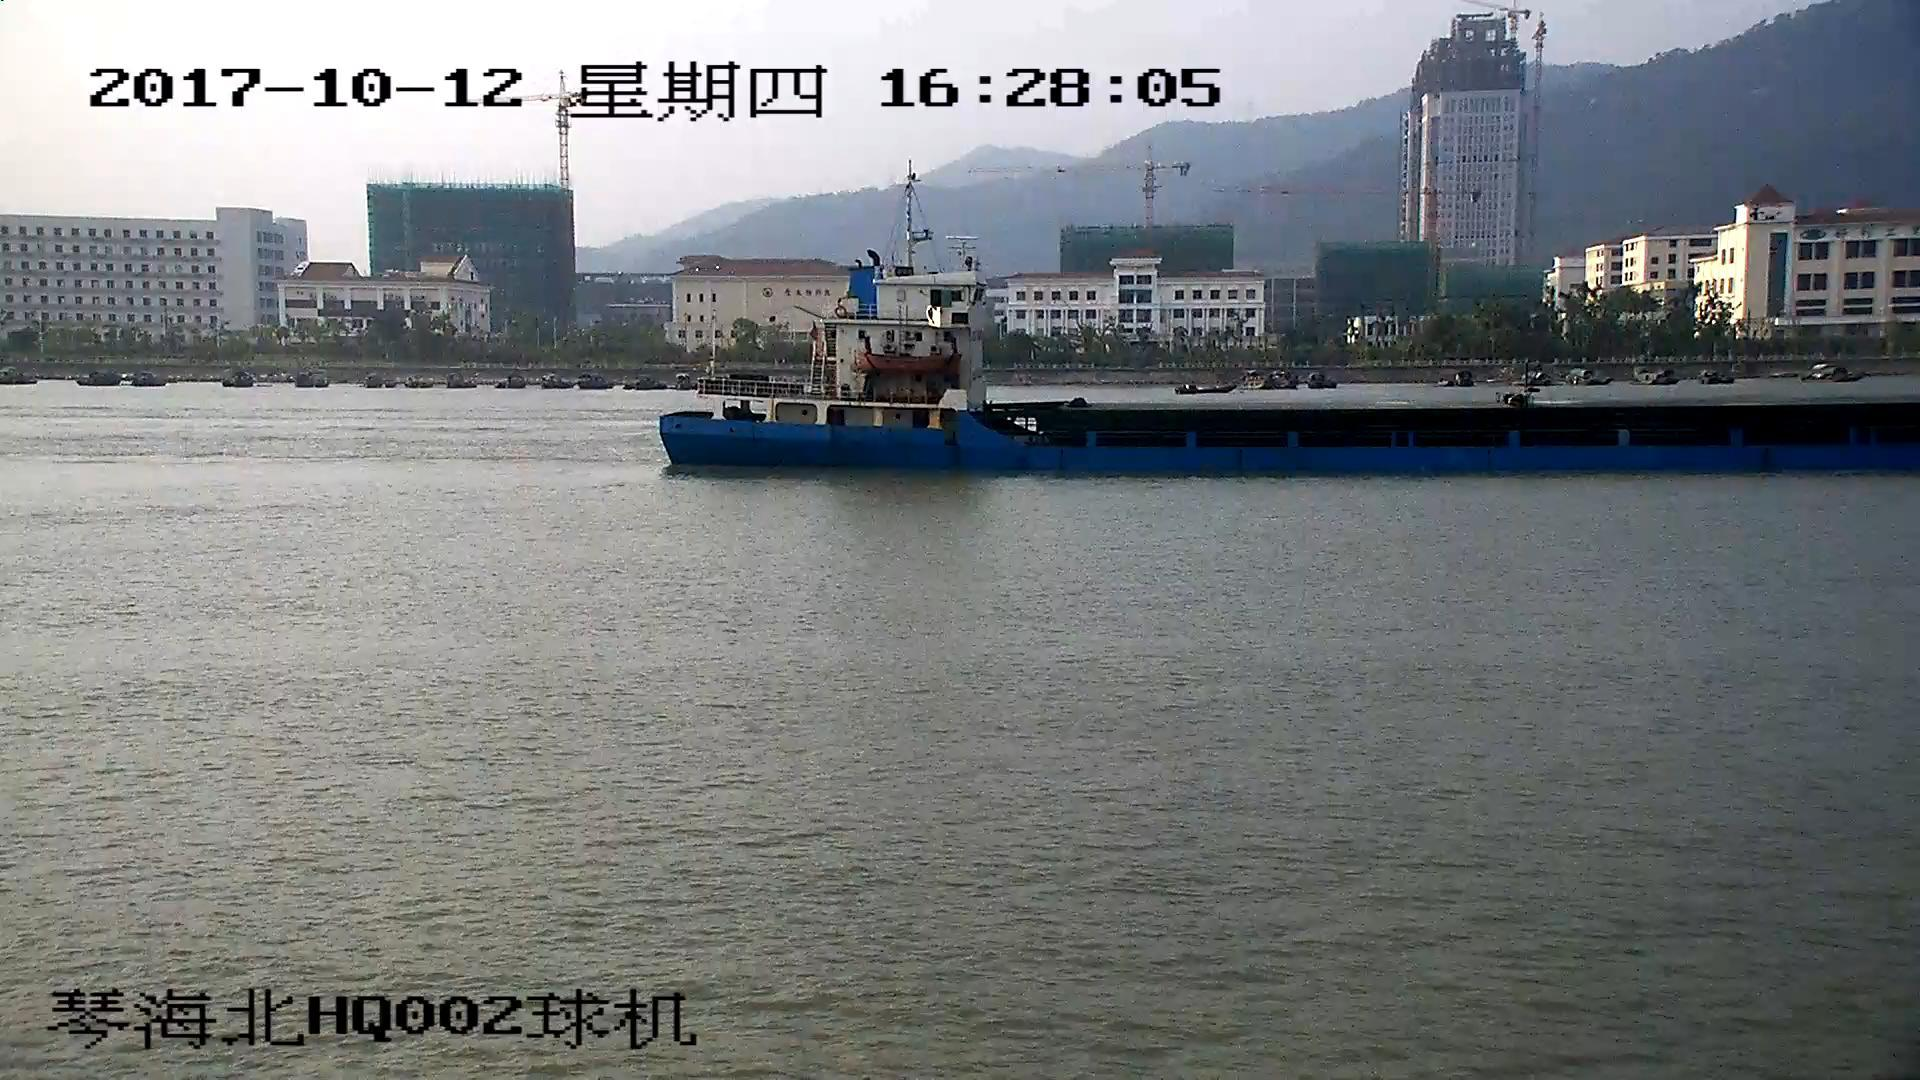Ship: (657, 185, 1920, 479)
